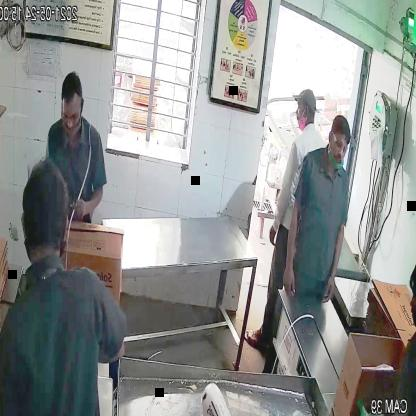goggles: (327, 134, 352, 156)
